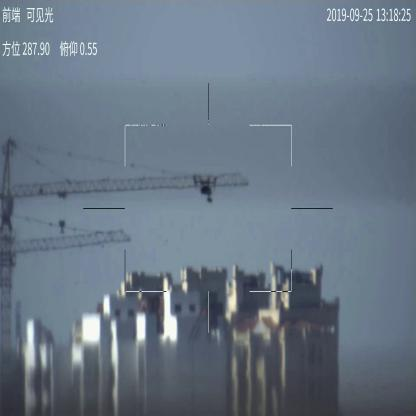uav: (192, 175, 218, 204)
